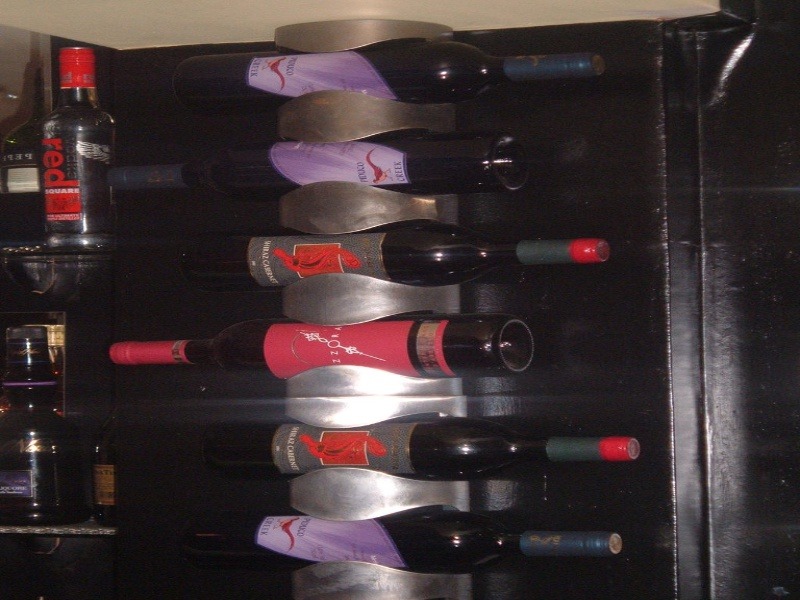wine: (1, 19, 643, 600)
